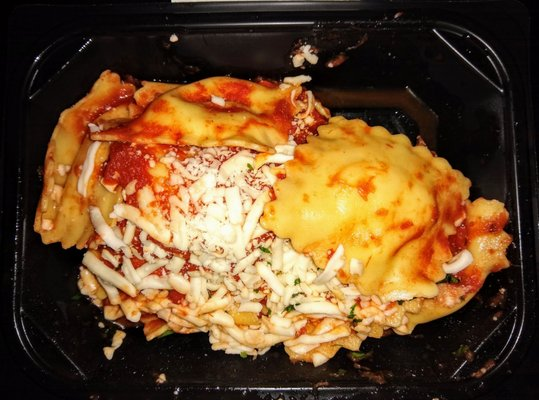burger: (8, 10, 538, 391)
sandwich: (37, 73, 497, 367)
